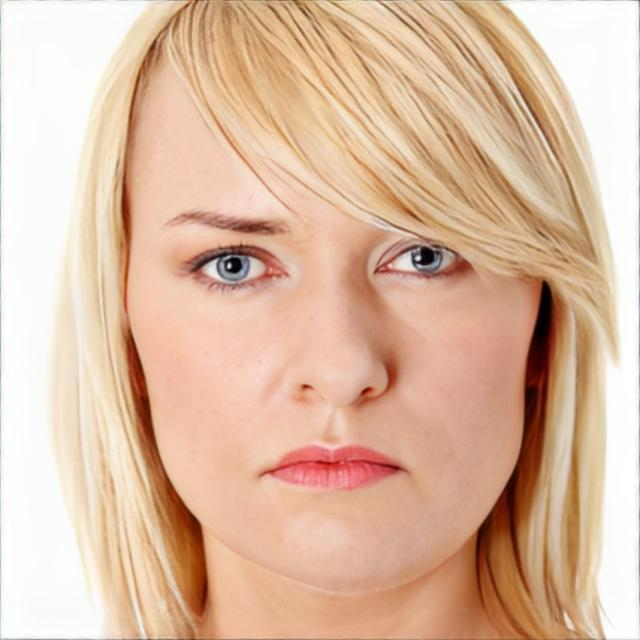sad: (124, 36, 536, 590)
